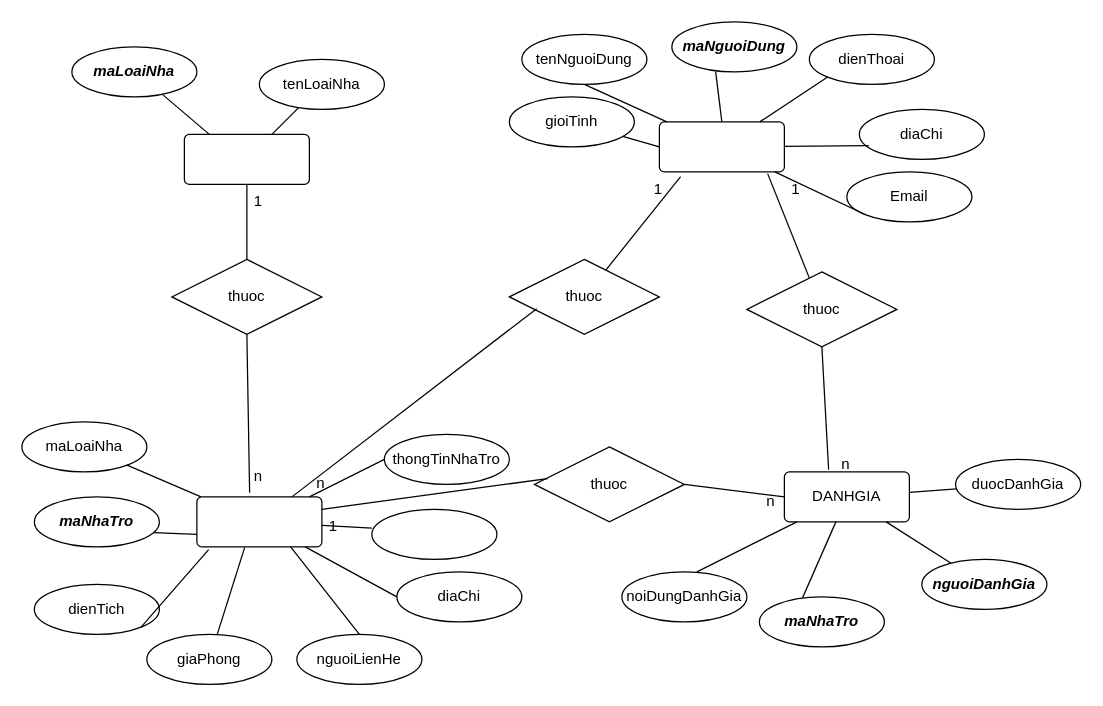
Image size: 1103x706. Some labels were removed from this diagram. Here are the shapes that lost their labels. From the top down, the centre of each, then its label:
pixel 246 158: LOAINHA
pixel 721 146: NGUOIDUNG
pixel 259 521: NHATRO
pixel 434 533: ngayDang
